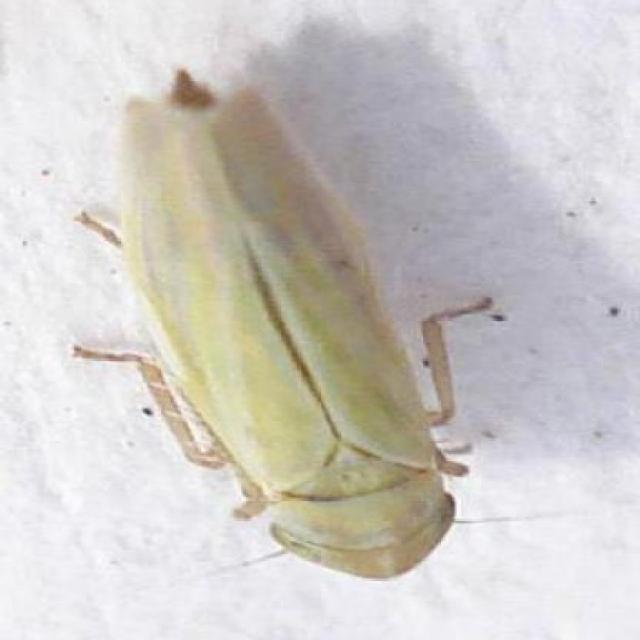green-leafhopper: (89, 85, 477, 572)
